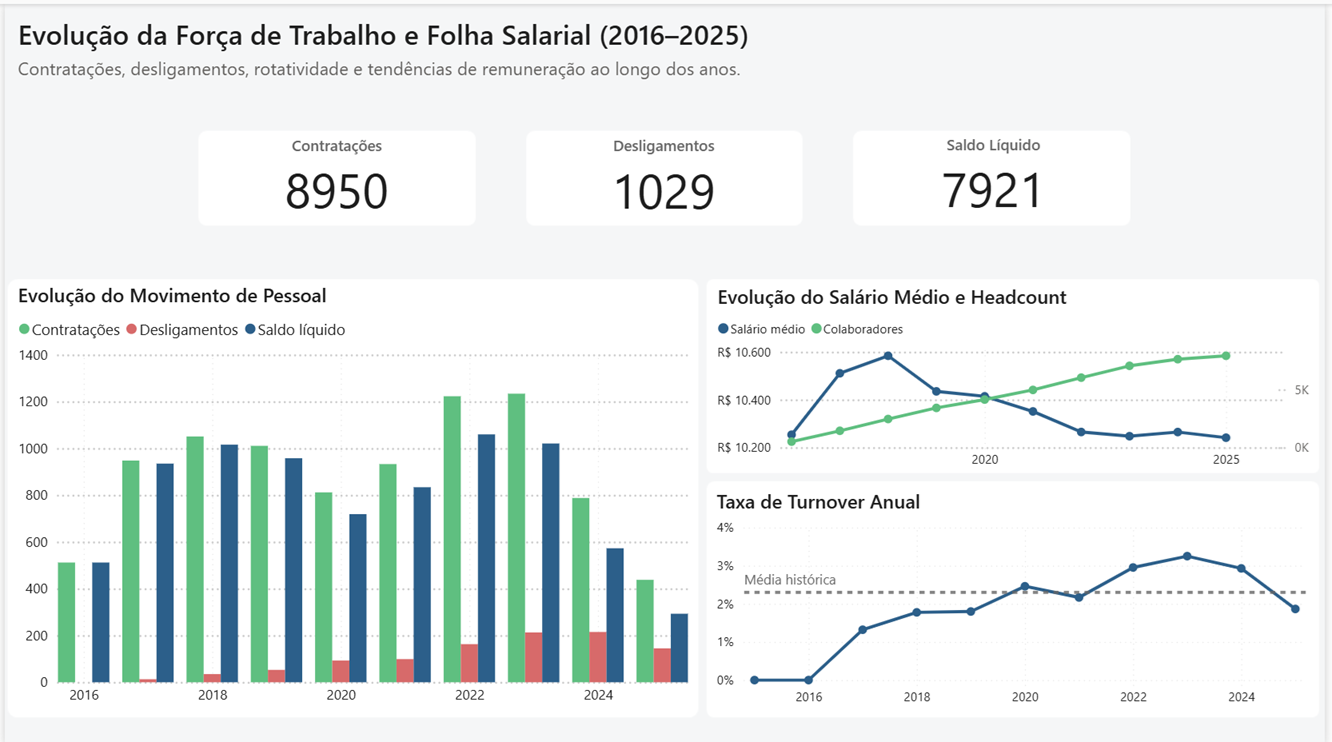

The page's visual inventory and layout, read from the dashboard file:
{"tool":"powerbi","page":{"name":"Tempo","canvas":[1280,720],"ordinal":4},"visuals":[{"type":"clusteredColumnChart","title":"Evolução do Movimento de Pessoal","fields":{"Category":["date_dim.Year"],"Y":["_Measures.Contratações (Período)","_Measures.Desligamentos (Período)","_Measures.Saldo líquido"]},"box":[7.7,269.9,660,420],"z":0},{"type":"textbox","title":"Evolução da Força de Trabalho e Folha Salarial (2016–2025)","box":[7.3,11,756.2,66],"z":1000},{"type":"lineChart","title":"Taxa de Turnover Anual","fields":{"Y":["_Measures.Turnover YTD %"],"Category":["date_dim.Year"]},"box":[685,469,584.5,220.9],"z":2000},{"type":"lineChart","title":"Evolução do Salário Médio e Headcount","fields":{"Y":["_Measures.Salário Médio em Data"],"Category":["date_dim.Year"],"Y2":["_Measures.HC Snapshot (d)"]},"box":[685.8,270,584.2,189.9],"z":3000},{"type":"card","title":"Contratações","fields":{"Values":["_Measures.Contratações (Período)"]},"box":[194,127,256.4,83.6],"z":4000},{"type":"card","title":"Desligamentos","fields":{"Values":["_Measures.Desligamentos (Período)"]},"box":[511.1,127,256.4,84.3],"z":5000},{"type":"card","title":"Saldo Líquido","fields":{"Values":["_Measures.Saldo líquido"]},"box":[830.4,126.3,256.4,84.3],"z":6000}]}

Visuals, with their boxes in screenshot pixels (x1, y1, x2, y2), scaled from the page's 1280x720 canvas onto the 1332x742 screenshot:
"Evolução do Movimento de Pessoal" clusteredColumnChart: [left=8, top=278, right=695, bottom=711]
"Evolução da Força de Trabalho e Folha Salarial (2016–2025)" textbox: [left=8, top=11, right=795, bottom=79]
"Taxa de Turnover Anual" lineChart: [left=713, top=483, right=1321, bottom=711]
"Evolução do Salário Médio e Headcount" lineChart: [left=714, top=278, right=1322, bottom=474]
"Contratações" card: [left=202, top=131, right=469, bottom=217]
"Desligamentos" card: [left=532, top=131, right=799, bottom=218]
"Saldo Líquido" card: [left=864, top=130, right=1131, bottom=217]
